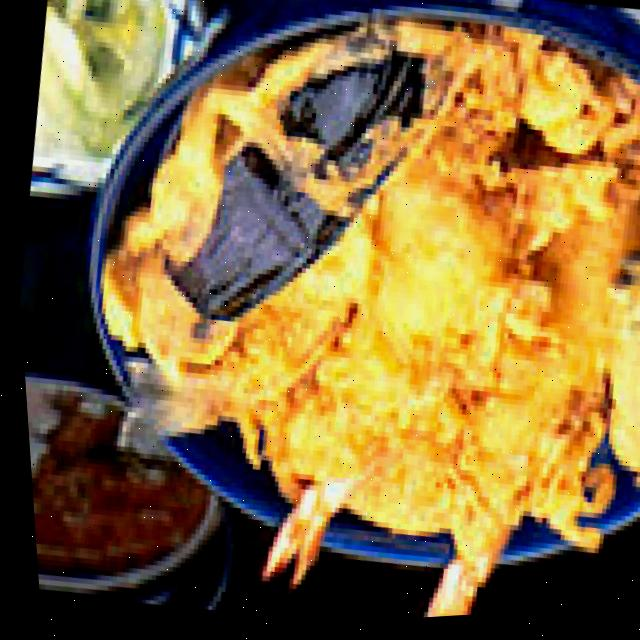汤锅炖物: (19, 358, 239, 620)
熟制海鲜: (17, 0, 640, 639)
